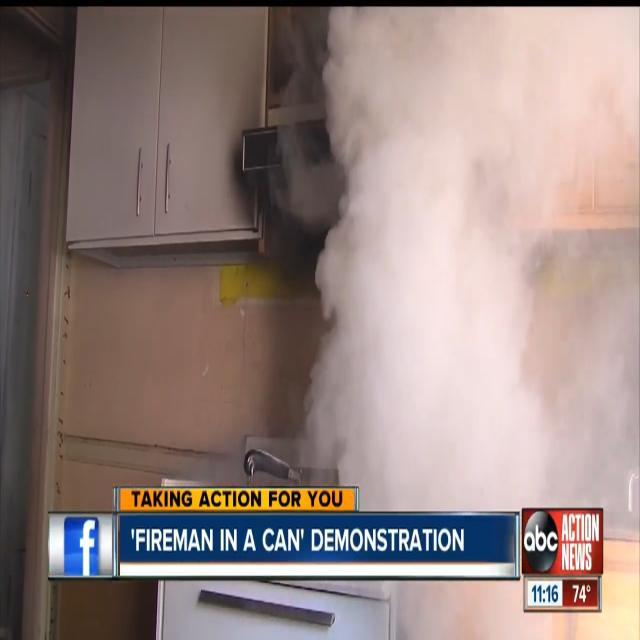Smoke: (328, 9, 626, 489)
